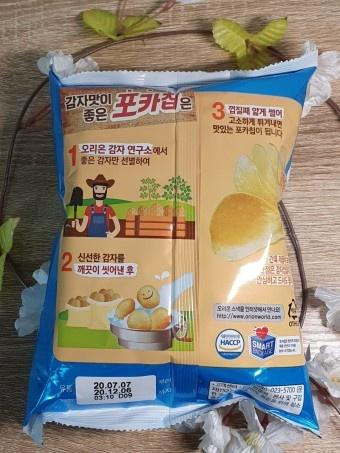snack: (21, 49, 323, 446)
